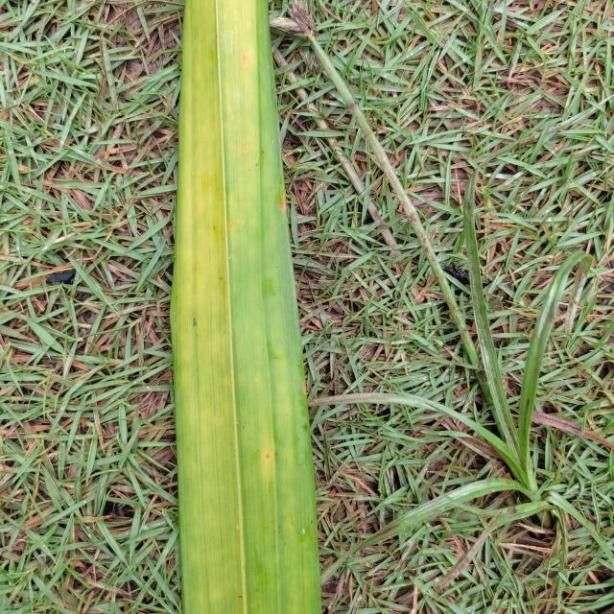nitrogen: (179, 0, 325, 614)
